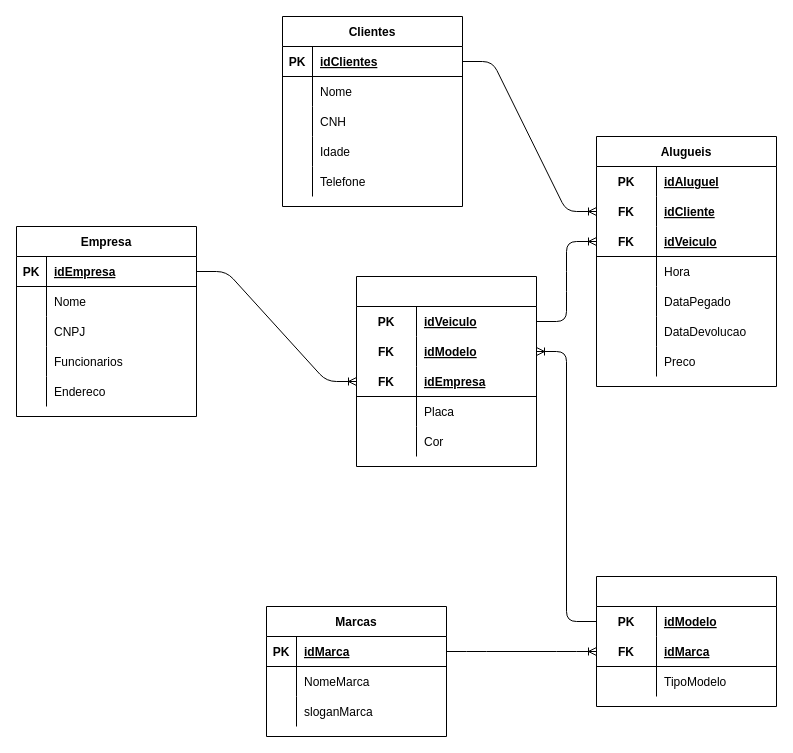
Image size: 793x753. Some labels were removed from this diagram. The box of each missing label's shape, as (x1, y1, x2, y2) in pixels:
Modelos: (596, 576, 776, 706)
Veiculos: (356, 276, 536, 466)
